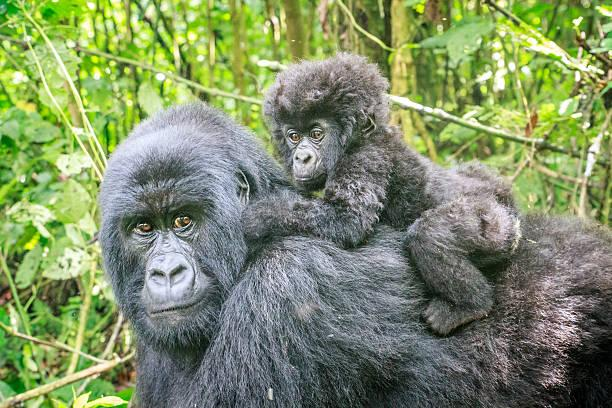goriile_montagne: (89, 99, 612, 408), (248, 36, 531, 277)
